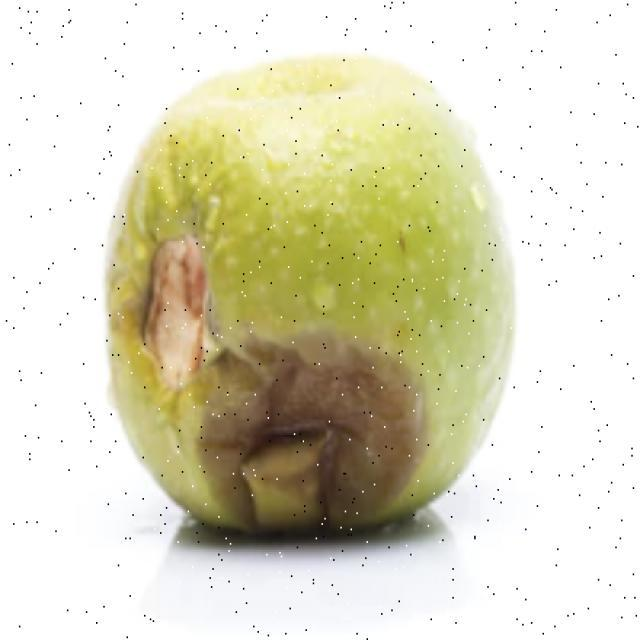Rotten: (117, 72, 525, 575)
